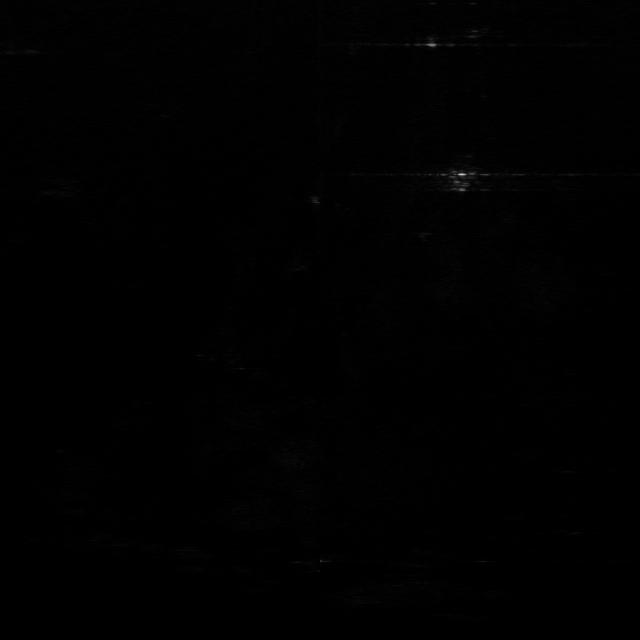rov: (440, 166, 494, 194)
